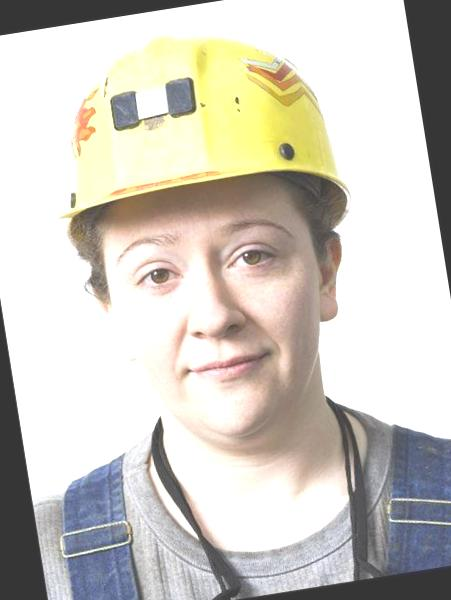helmet: (25, 0, 363, 249)
person: (0, 11, 451, 600)
